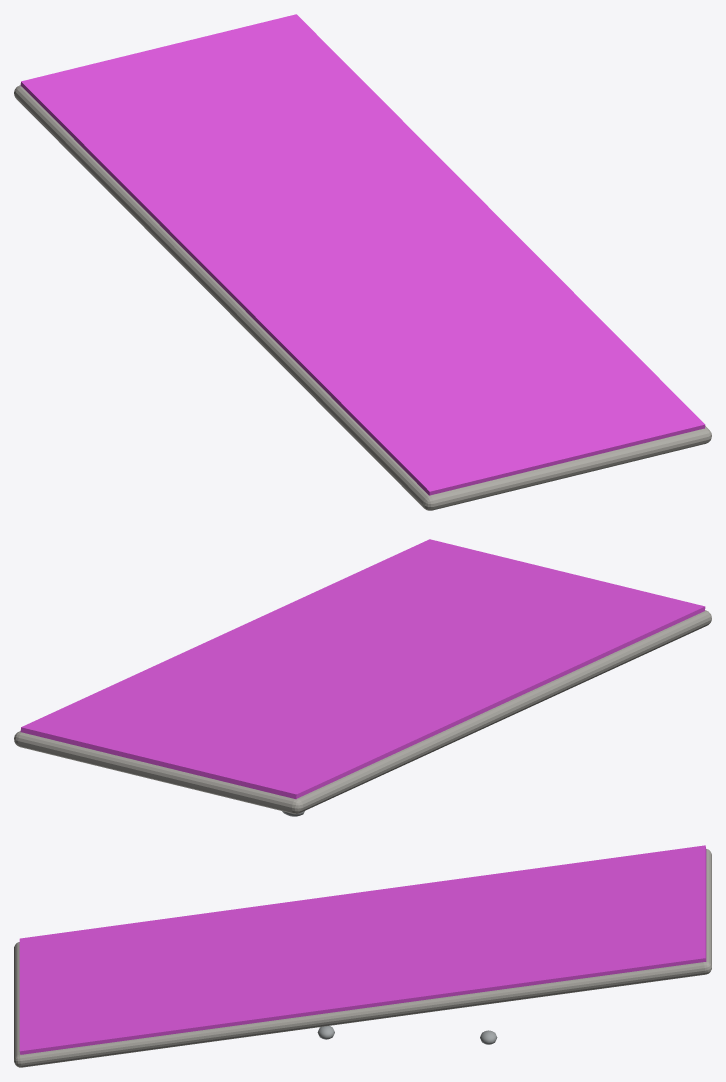
3 views of the same model, one above another, from view 1: azimuth 30°, elevation 25°; view 2: azimuth 150°, elevation 25°; view 3: azimuth 270°, elevation 25° (orthographic). The views are drawn at different scales.
Visible parts, largest first — view 1: NAV_MASK_FOREST_PATH_GRAVEL_SLOPE_DOWN_SLOPE, LOD0_FOREST_PATH_GRAVEL_SLOPE_DOWN_Slope; view 2: NAV_MASK_FOREST_PATH_GRAVEL_SLOPE_DOWN_SLOPE, LOD0_FOREST_PATH_GRAVEL_SLOPE_DOWN_Slope; view 3: NAV_MASK_FOREST_PATH_GRAVEL_SLOPE_DOWN_SLOPE, LOD0_FOREST_PATH_GRAVEL_SLOPE_DOWN_Slope.
Part boxes in pixels (x1=…): NAV_MASK_FOREST_PATH_GRAVEL_SLOPE_DOWN_SLOPE: x1=20, y1=14, x2=705, y2=495; LOD0_FOREST_PATH_GRAVEL_SLOPE_DOWN_Slope: x1=14, y1=85, x2=711, y2=510; NAV_MASK_FOREST_PATH_GRAVEL_SLOPE_DOWN_SLOPE: x1=20, y1=539, x2=705, y2=799; LOD0_FOREST_PATH_GRAVEL_SLOPE_DOWN_Slope: x1=14, y1=610, x2=711, y2=813; NAV_MASK_FOREST_PATH_GRAVEL_SLOPE_DOWN_SLOPE: x1=19, y1=845, x2=706, y2=1054; LOD0_FOREST_PATH_GRAVEL_SLOPE_DOWN_Slope: x1=14, y1=849, x2=711, y2=1067.
Size of what is drawn, in the model's own units: 3.2 by 1.38 by 8.
